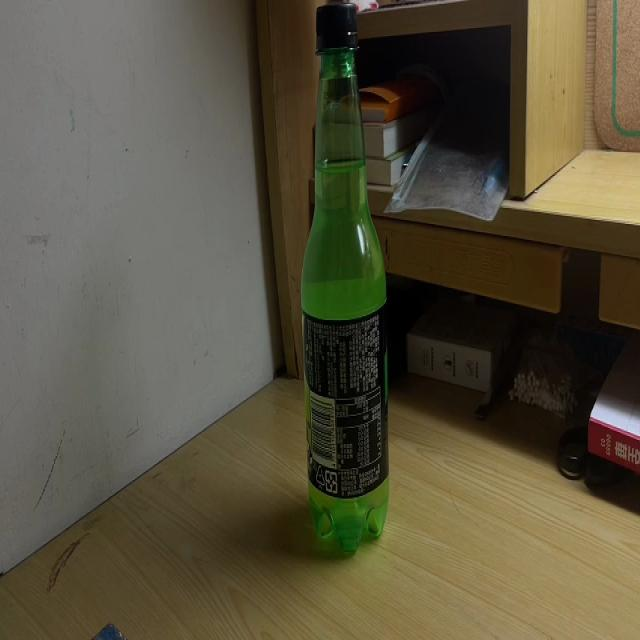Mountain-Dew: (300, 1, 390, 556)
